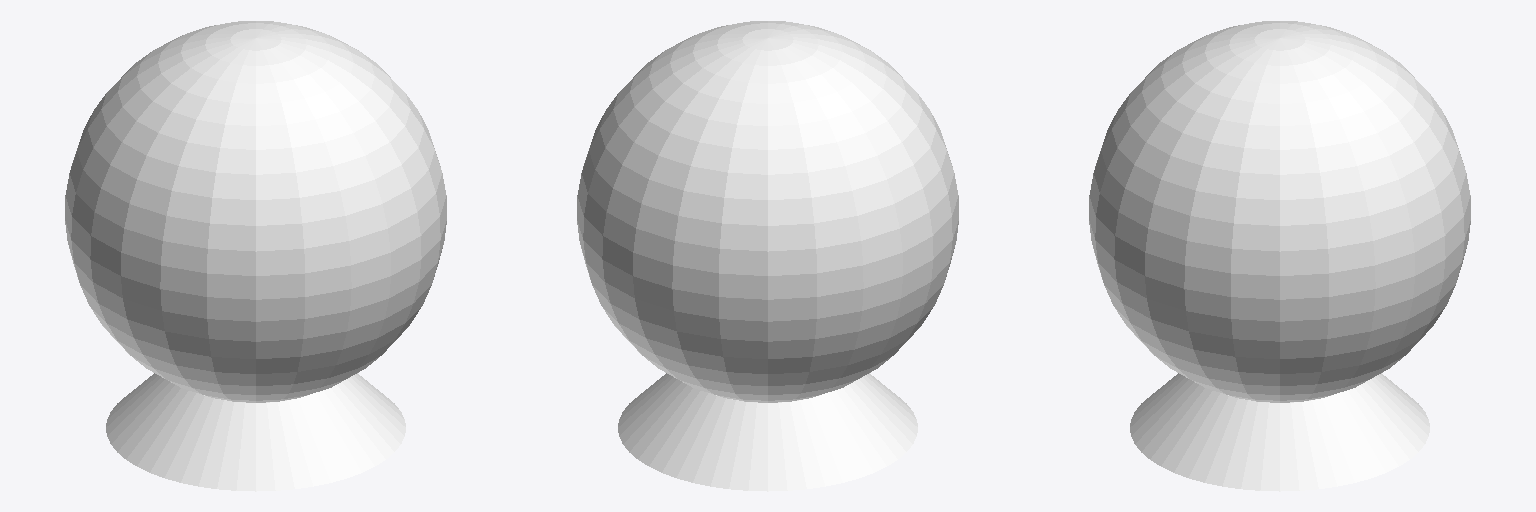
robot.urdf — object_103967:
<?xml version='1.0' encoding='utf-8'?>
<robot name="object_103967">
  <link name="fixed_root">
    <visual name="flared_printed_paper_stand">
      <origin xyz="0 0 0" rpy="0 0 0" />
      <geometry>
        <mesh filename="meshes/mesh_000.obj" scale="1 1 1" />
      </geometry>
      <material name="mesh_000_material">
        <color rgba="1 1 1 1" />
        <texture filename="textures/stand_cream_educational_print_packed_artwork.png" />
      </material>
    </visual>
  </link>
  <link name="link_globe_spin">
    <visual name="printed_paper_globe">
      <origin xyz="0 0 0" rpy="0 0 0" />
      <geometry>
        <mesh filename="meshes/mesh_001.obj" scale="1 1 1" />
      </geometry>
      <material name="mesh_001_material">
        <color rgba="1 1 1 1" />
        <texture filename="textures/globe_matte_printed_paper_packed_artwork.png" />
      </material>
    </visual>
  </link>
  <joint name="globe_spin" type="revolute">
    <parent link="fixed_root" />
    <child link="link_globe_spin" />
    <origin xyz="0 1.01643953671e-19 0.155000001192" rpy="0 0 0" />
    <axis xyz="0 0 1" />
    <limit lower="-0.5235987755982988" upper="0.5235987755982988" effort="0" velocity="0" />
  </joint>
</robot>

--- Render facts (derived) ---
The picture shows the robot from 3 angles, left to right: view 1: azimuth 30°, elevation 25°; view 2: azimuth 150°, elevation 25°; view 3: azimuth 270°, elevation 25°; orthographic projection.
Model object_103967 with 2 links and 1 joints (1 revolute), rooted at fixed_root, posed every joint at zero.
Links seen in each view (by area): view 1: link_globe_spin, fixed_root; view 2: link_globe_spin, fixed_root; view 3: link_globe_spin, fixed_root.
Boxes of the visible links, <box> form: link_globe_spin: <box>65,21,446,402</box>; fixed_root: <box>106,373,405,491</box>; link_globe_spin: <box>577,21,958,402</box>; fixed_root: <box>618,373,917,491</box>; link_globe_spin: <box>1089,21,1470,402</box>; fixed_root: <box>1130,373,1429,491</box>.
Size in the robot's own frame: 0.8892 by 0.8892 by 1 metres.
2 mesh visuals loaded from 2 distinct referenced files (2 OBJ).
